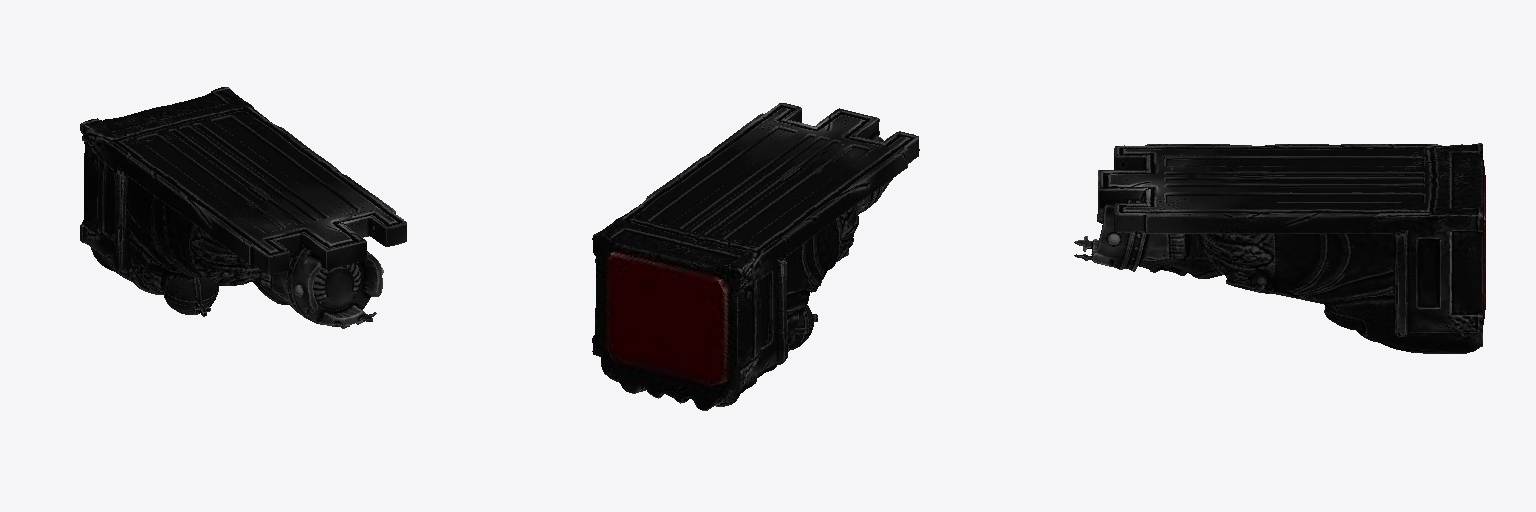
3 views of the same model, side by side, from view 1: azimuth 30°, elevation 25°; view 2: azimuth 150°, elevation 25°; view 3: azimuth 270°, elevation 25° (orthographic).
Parts seen in each view (by area): view 1: mmGroup0; view 2: mmGroup0; view 3: mmGroup0.
Part boxes in pixels (bbox=[...]): mmGroup0: bbox=[80, 87, 406, 328]; mmGroup0: bbox=[592, 103, 919, 410]; mmGroup0: bbox=[1074, 143, 1485, 353].
Bounding box in the file's own units: 5.17 × 4.85 × 11.59.
1 materials, 1 textured.